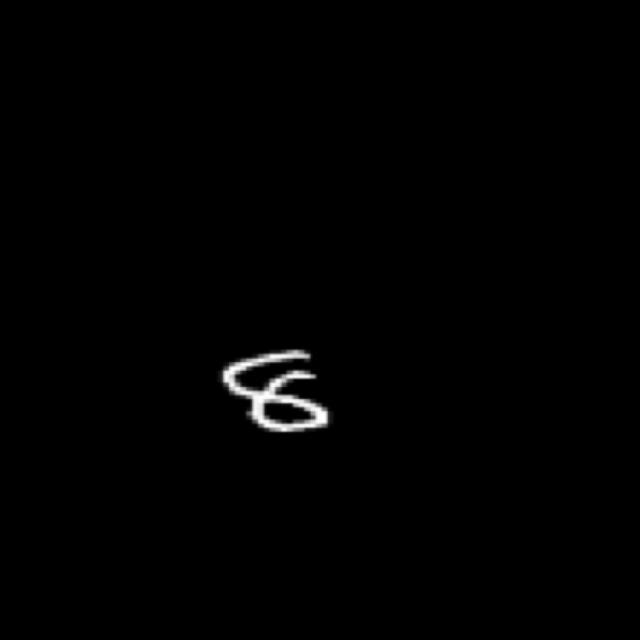eight -8-: (215, 341, 339, 436)
